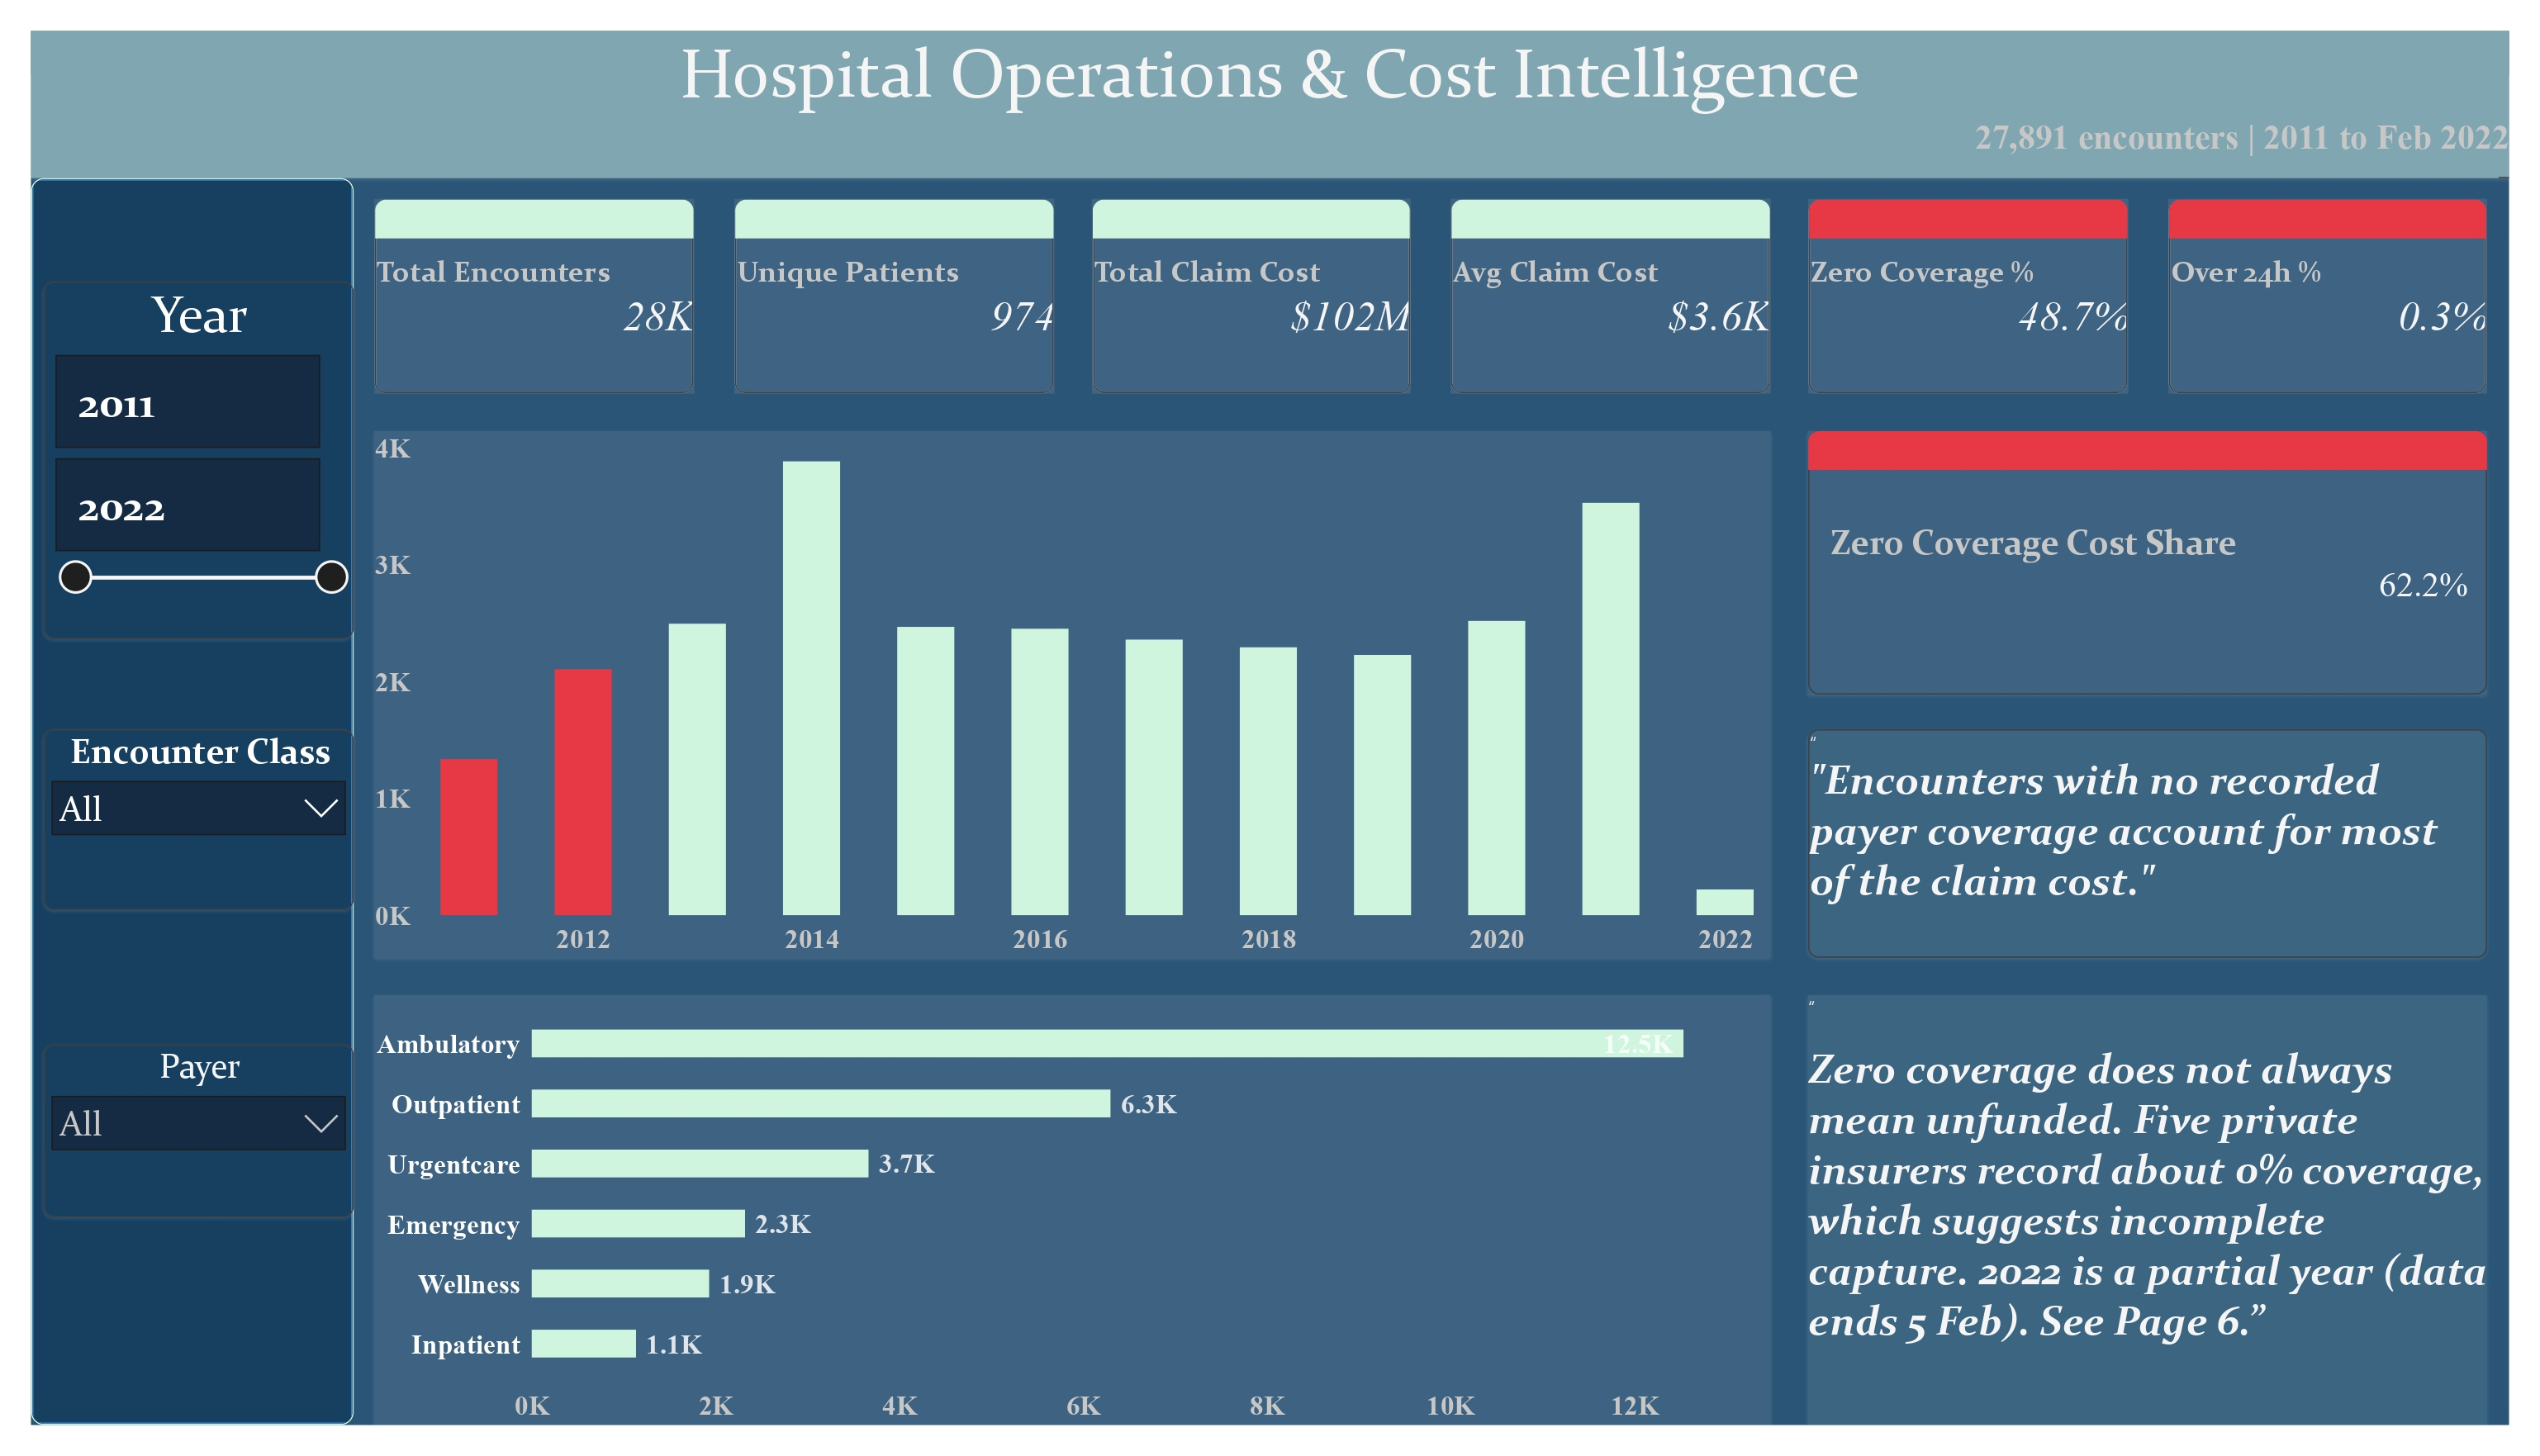

What the dashboard file says about the page in this screenshot:
{"tool":"powerbi","page":{"name":"Overview","canvas":[1920,1080],"ordinal":0},"visuals":[{"type":"textbox","title":"Hospital Operations & Cost Intelligence","box":[0,0,1920,113.5],"z":0},{"type":"shape","box":[0,113.5,249.8,966.2],"z":0,"group":"g1"},{"type":"group","id":"g1","title":"Group 1","box":[0,113.5,249.8,966.2],"z":1000},{"type":"slicer","title":"Year","fields":{"Values":["DimDate.Date.Variation.Date Hierarchy.Year"]},"box":[10.3,194.1,239.5,276.6],"z":2000},{"type":"slicer","title":"Encounter Class","fields":{"Values":["encounters.ENCOUNTERCLASS"]},"box":[10.3,540.9,239.5,140.4],"z":3000},{"type":"slicer","title":"Payer","fields":{"Values":["payers.Payer_Name"]},"box":[10.3,784.5,239.5,134.2],"z":4000},{"type":"cardVisual","fields":{"Data":["DimDate.Total Encounters"]},"box":[266.3,130.1,247.7,150.7],"z":5000},{"type":"cardVisual","fields":{"Data":["DimDate.Unique Patients"]},"box":[545,130.1,247.7,150.7],"z":6000},{"type":"cardVisual","fields":{"Data":["encounters.Total Claim Cost"]},"box":[821.7,130.1,247.7,150.7],"z":7000},{"type":"cardVisual","fields":{"Data":["encounters.Avg Claim Cost"]},"box":[1100.4,130.1,247.7,150.7],"z":8000},{"type":"cardVisual","fields":{"Data":["encounters.Zero Coverage %"]},"box":[1377,130.1,247.7,150.7],"z":9000},{"type":"cardVisual","fields":{"Data":["encounters.Over 24h %"]},"box":[1655.7,130.1,247.7,150.7],"z":10000},{"type":"clusteredColumnChart","title":"Encounters by Year","fields":{"Category":["DimDate.Date.Variation.Date Hierarchy.Year"],"Y":["DimDate.Total Encounters"]},"box":[266.3,309.7,1081.8,408.8],"z":11000},{"type":"clusteredBarChart","title":"Encounters by Class","fields":{"Category":["encounters.ENCOUNTERCLASS"],"Y":["DimDate.Total Encounters"]},"box":[266.3,747.4,1081.8,332.4],"z":12000},{"type":"cardVisual","title":"Claim Cost with Zero Coverage","fields":{"Data":["DimDate.Zero Coverage Cost Share"]},"box":[1377,309.7,526.5,204.4],"z":13000},{"type":"textbox","box":[1377,540.9,526.5,177.5],"z":13001},{"type":"textbox","box":[1377,747.4,526.5,332.4],"z":13002}]}

Visuals, with their boxes on the page's 1920x1080 design canvas (x1, y1, x2, y2). These are canvas units, not pixel positions in the 2540x1456 screenshot, which may show the page scaled, cropped or inside an application window:
"Hospital Operations & Cost Intelligence" textbox: <bbox>0, 0, 1920, 114</bbox>
shape: <bbox>0, 114, 250, 1080</bbox>
"Group 1" group: <bbox>0, 114, 250, 1080</bbox>
"Year" slicer: <bbox>10, 194, 250, 471</bbox>
"Encounter Class" slicer: <bbox>10, 541, 250, 681</bbox>
"Payer" slicer: <bbox>10, 784, 250, 919</bbox>
cardVisual - DimDate.Total Encounters: <bbox>266, 130, 514, 281</bbox>
cardVisual - DimDate.Unique Patients: <bbox>545, 130, 793, 281</bbox>
cardVisual - encounters.Total Claim Cost: <bbox>822, 130, 1069, 281</bbox>
cardVisual - encounters.Avg Claim Cost: <bbox>1100, 130, 1348, 281</bbox>
cardVisual - encounters.Zero Coverage %: <bbox>1377, 130, 1625, 281</bbox>
cardVisual - encounters.Over 24h %: <bbox>1656, 130, 1903, 281</bbox>
"Encounters by Year" clusteredColumnChart: <bbox>266, 310, 1348, 718</bbox>
"Encounters by Class" clusteredBarChart: <bbox>266, 747, 1348, 1080</bbox>
"Claim Cost with Zero Coverage" cardVisual: <bbox>1377, 310, 1904, 514</bbox>
textbox: <bbox>1377, 541, 1904, 718</bbox>
textbox: <bbox>1377, 747, 1904, 1080</bbox>
